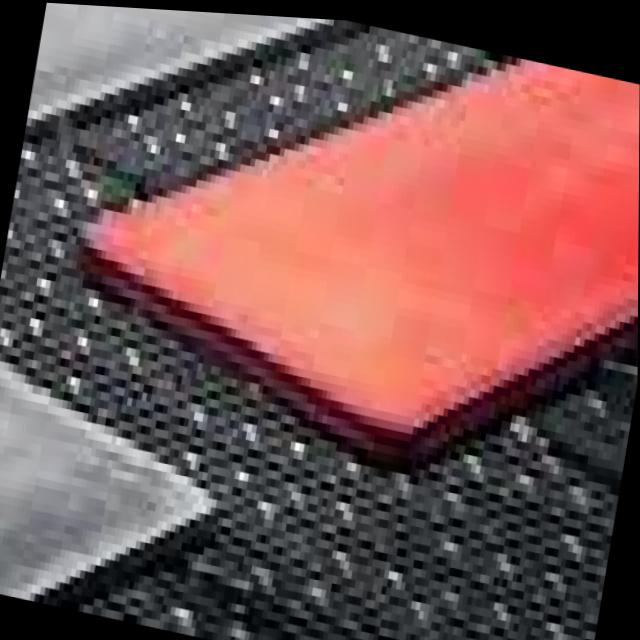metal-plates: (79, 51, 640, 470), (1, 355, 219, 610), (25, 3, 366, 143)
